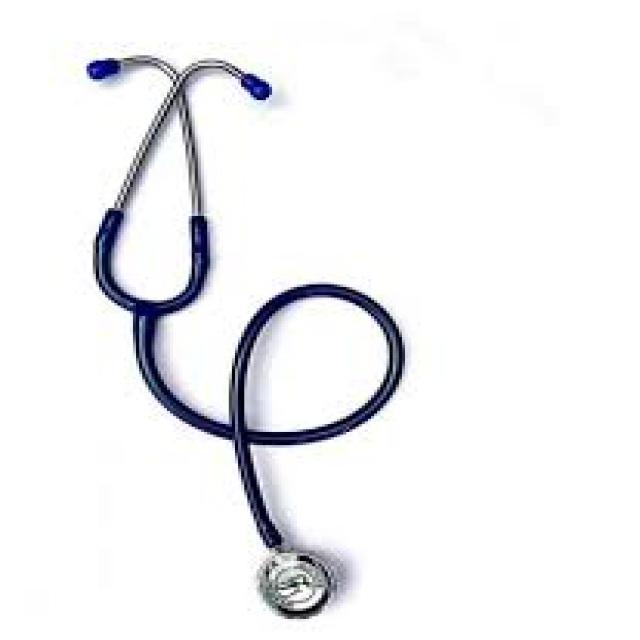stethoscope: (84, 46, 411, 640)
